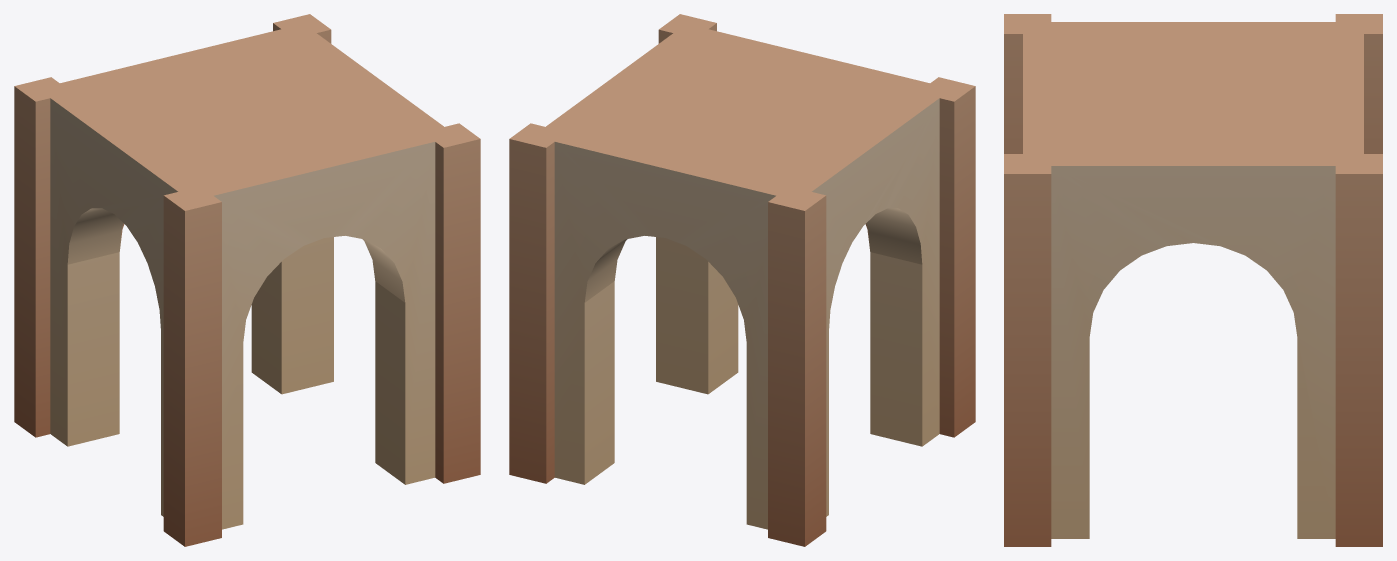
The model's file is tower-square-arch.glb.
3 views of the same model, side by side, from view 1: azimuth 30°, elevation 25°; view 2: azimuth 150°, elevation 25°; view 3: azimuth 270°, elevation 25° (orthographic). The views are drawn at different scales.
Visible parts, largest first — view 1: tower-square-arch; view 2: tower-square-arch; view 3: tower-square-arch.
Part boxes in pixels (x1=…): tower-square-arch: x1=14, y1=14, x2=480, y2=546; tower-square-arch: x1=509, y1=14, x2=975, y2=546; tower-square-arch: x1=1004, y1=14, x2=1382, y2=546.
Bounding box in the file's own units: 0.93 × 1.01 × 0.93.
